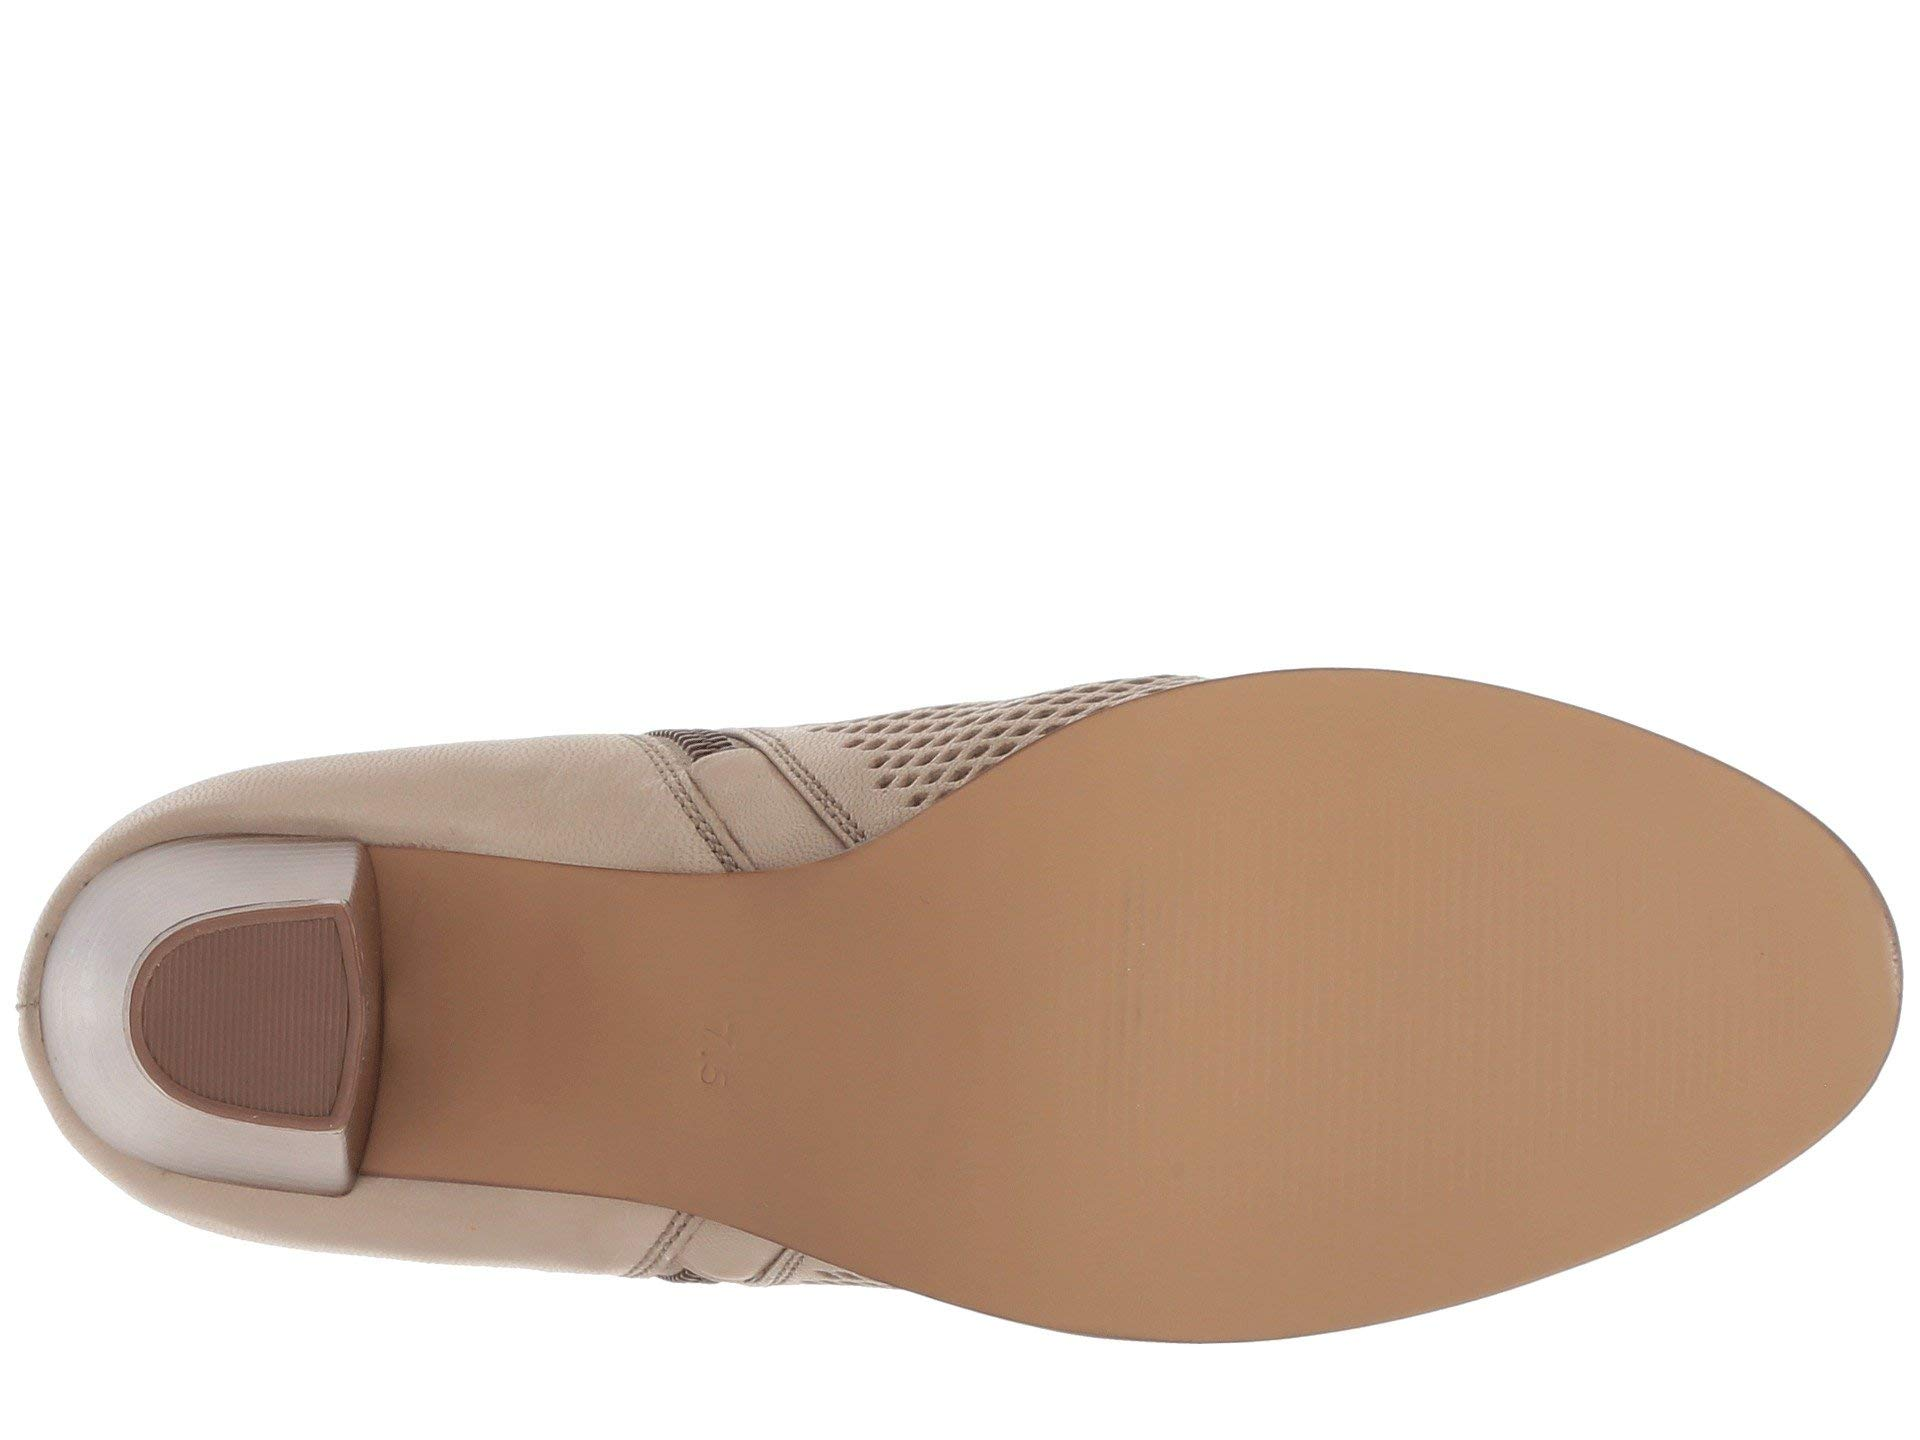line: (1111, 827, 1603, 1150), (166, 951, 324, 1072)
